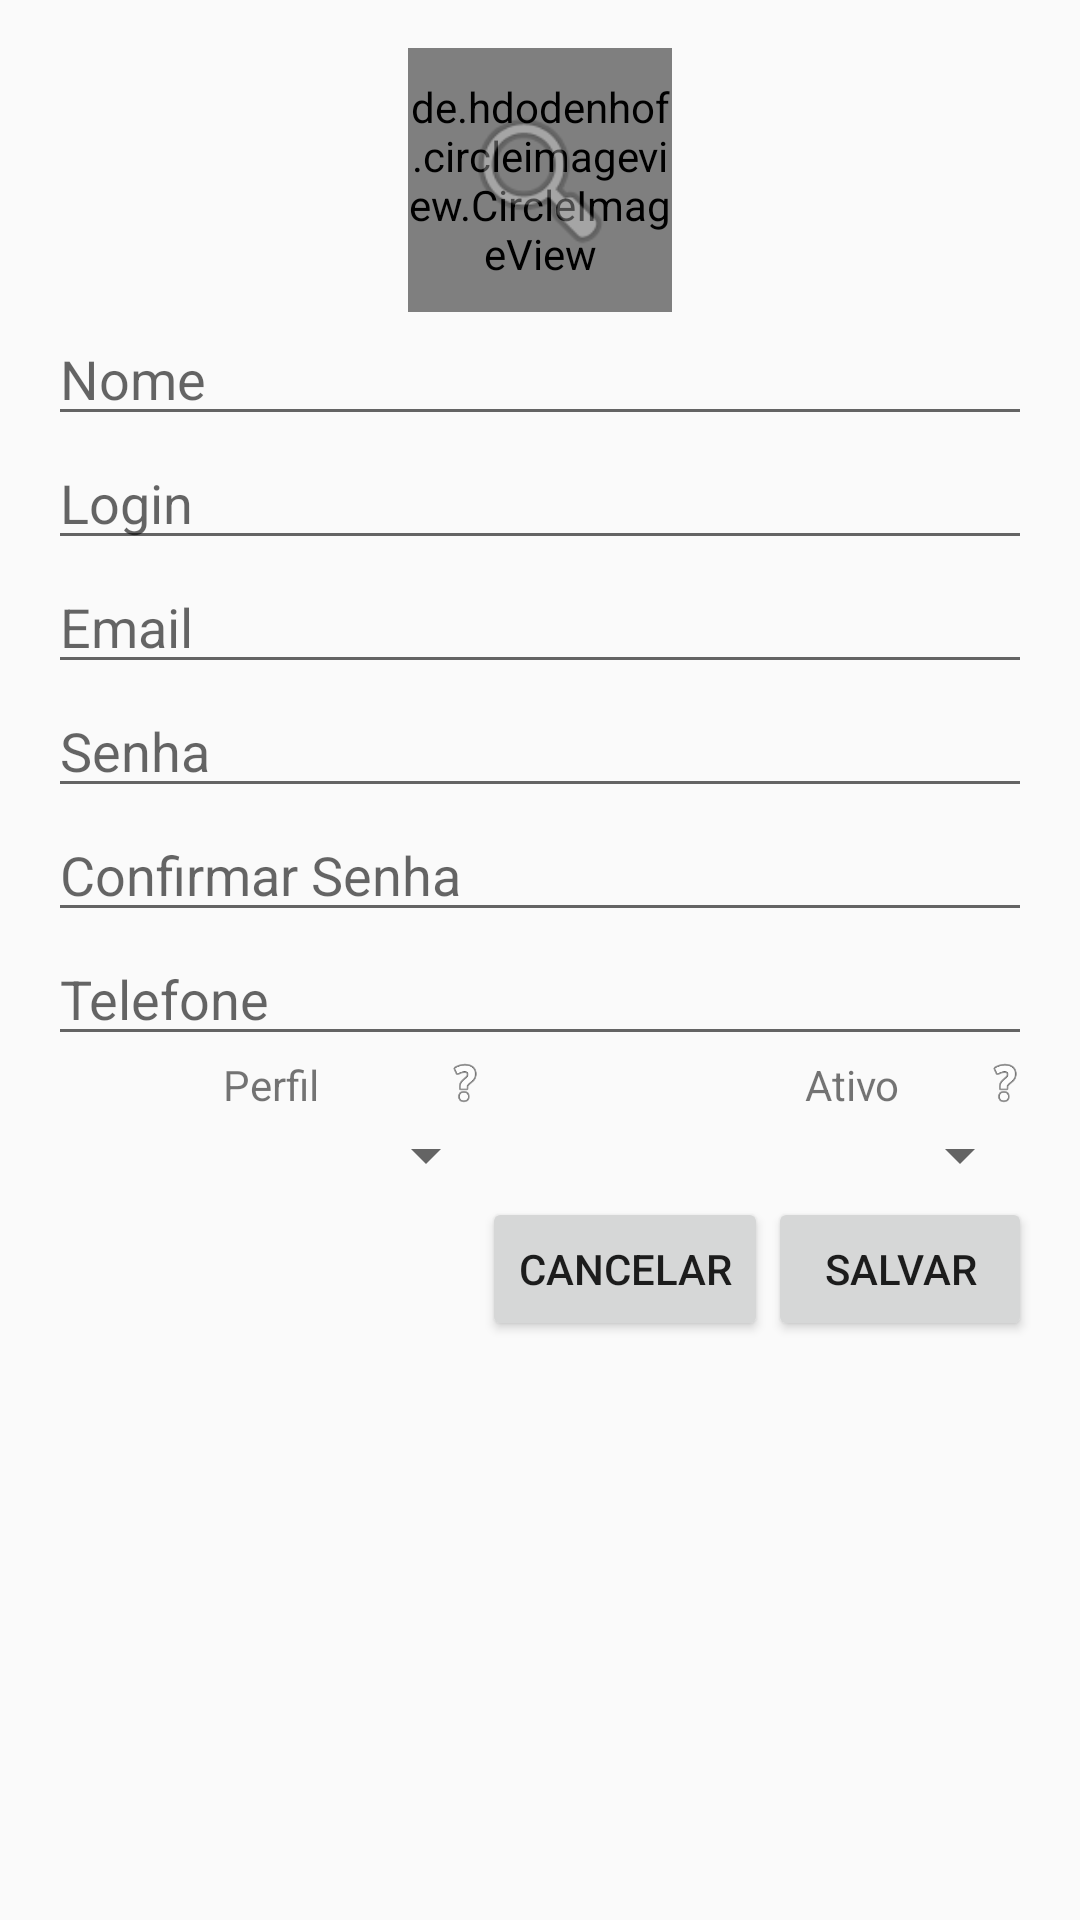

Screen size 1080 x 1920. Icon name, then its box in pixels as (x1, y1, x2, y2):
help: (453, 1064, 477, 1102), (993, 1064, 1017, 1102)
